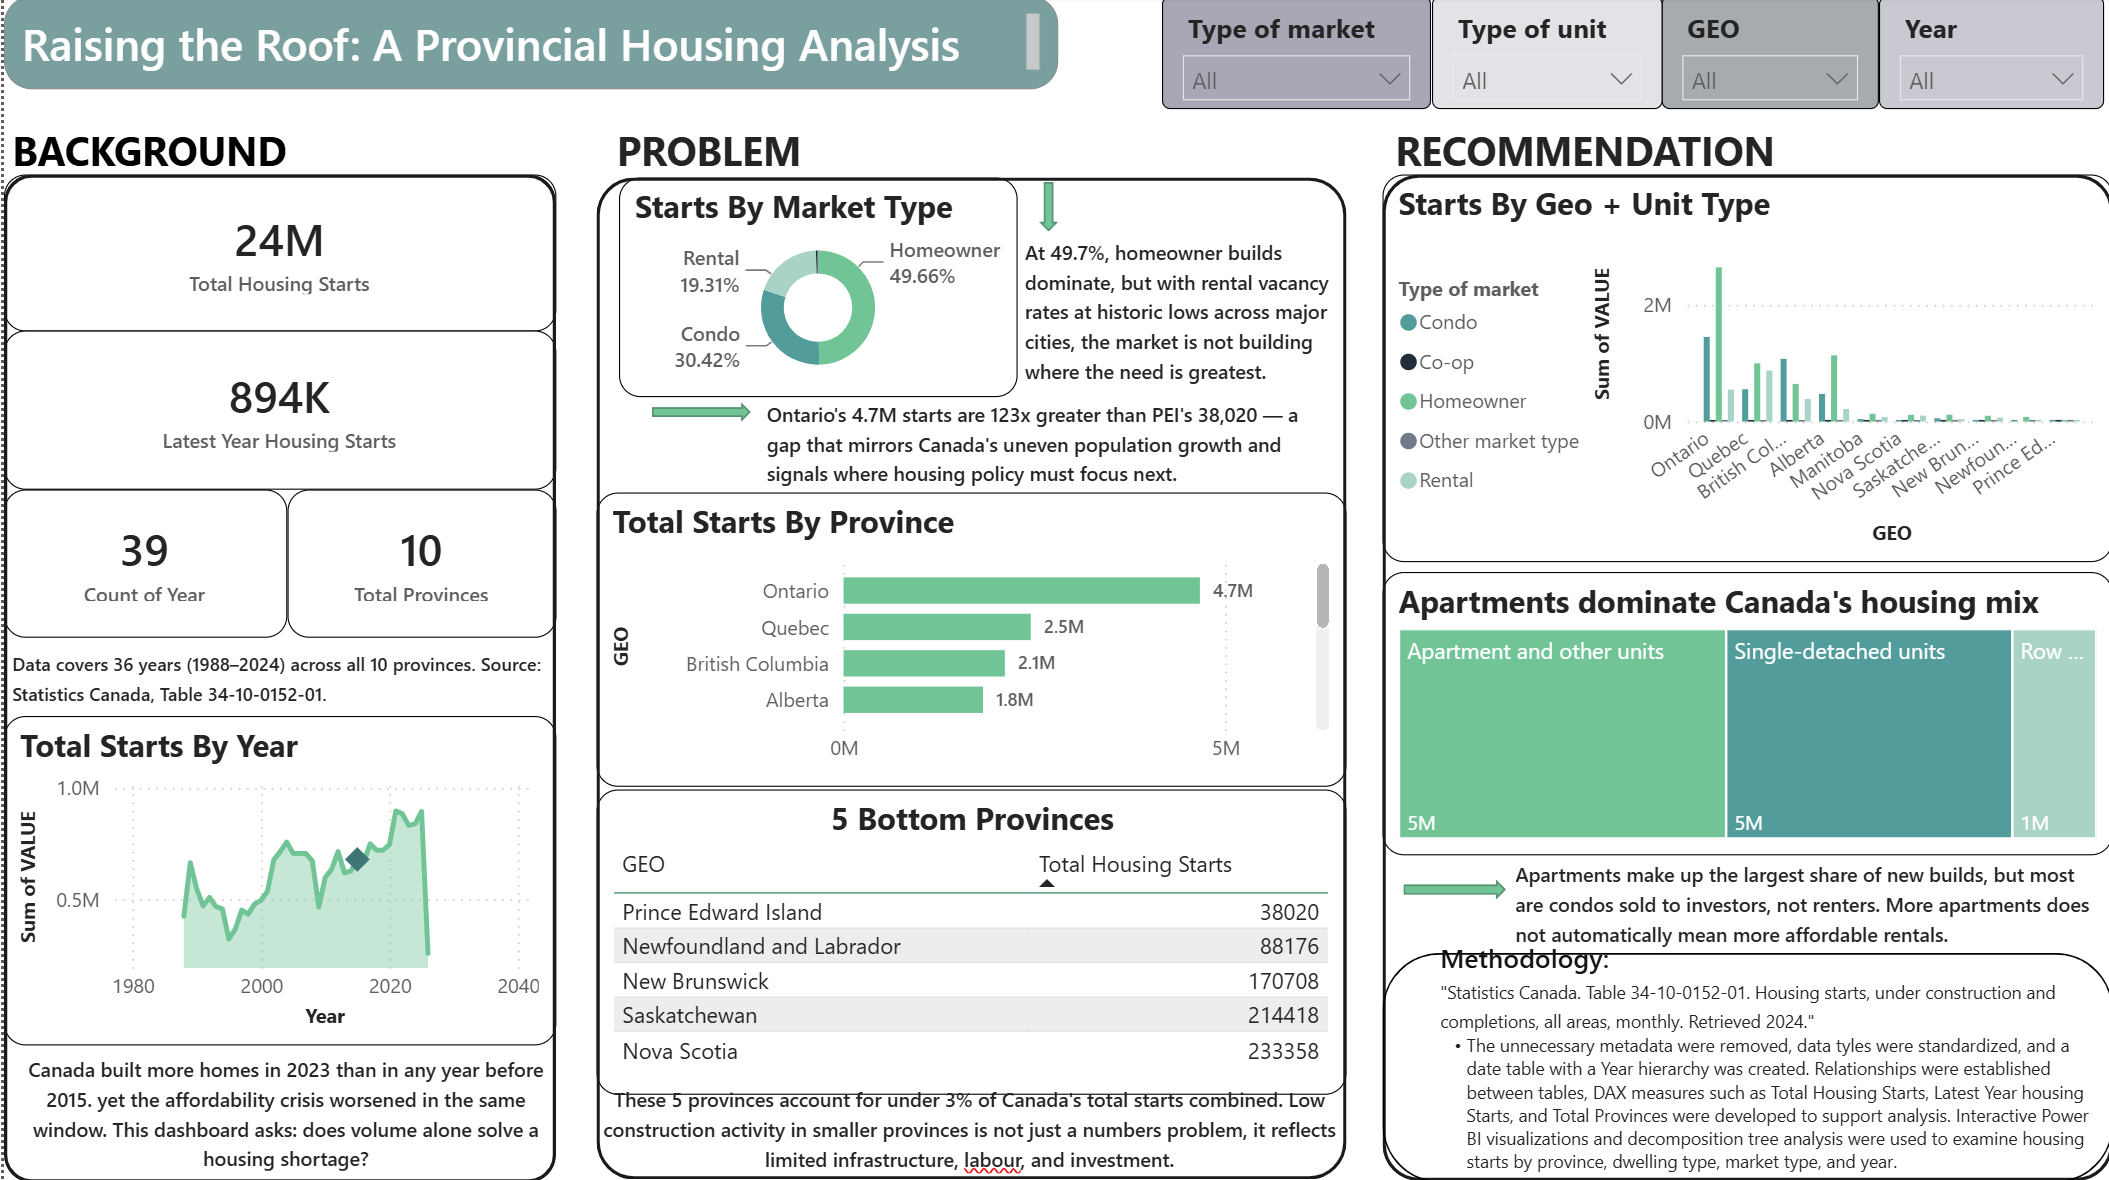

The page's visual inventory and layout, read from the dashboard file:
{"tool":"powerbi","page":{"name":"Page 1","canvas":[1280,720],"ordinal":0},"visuals":[{"type":"lineChart","fields":{"Y":["34100152.Total Housing Starts"],"Category":["DateTable.Year"]},"box":[897.5,102.5,382.5,132.5],"z":0},{"type":"clusteredBarChart","title":"Total Starts By Province","fields":{"Y":["34100152.Total Housing Starts"],"Category":["34100152.GEO"]},"box":[360,301.7,455,178.3],"z":1000},{"type":"treemap","title":"Apartments dominate Canada''s housing mix","fields":{"Group":["34100152.Type of unit"],"Values":["Sum(34100152.VALUE)"]},"box":[836.7,350,443.3,171.7],"z":2000},{"type":"textbox","box":[912.2,517.8,367.8,80],"z":3000},{"type":"donutChart","title":"Starts By Market Type","fields":{"Category":["34100152.Type of market"],"Y":["34100152.Total Housing Starts"]},"box":[373.3,110,241.7,133.3],"z":4000},{"type":"slicer","fields":{"Values":["DateTable.Year"]},"box":[1138.3,0,136.7,68.3],"z":5000},{"type":"slicer","fields":{"Values":["34100152.GEO"]},"box":[1006.7,0,131.7,68.3],"z":6000},{"type":"slicer","fields":{"Values":["34100152.Type of unit"]},"box":[866.7,0,140,68.3],"z":7000},{"type":"slicer","fields":{"Values":["34100152.Type of market"]},"box":[703.3,0,163.3,68.3],"z":8000},{"type":"tableEx","title":"5 Bottom Provinces","fields":{"Values":["34100152.GEO","34100152.Total Housing Starts"]},"box":[360,481.7,455,185],"z":9000},{"type":"cardVisual","fields":{"Data":["34100152.Total Provinces"]},"box":[171.7,300,163.3,90],"z":10000},{"type":"cardVisual","fields":{"Data":["34100152.Total Housing Starts"]},"box":[0,108.3,335,95],"z":11000},{"type":"cardVisual","fields":{"Data":["34100152.Latest Year Housing Starts"]},"box":[0,203.3,335,96.7],"z":12000},{"type":"cardVisual","title":"rr","fields":{"Data":["Count(DateTable.Year)"]},"box":[0,300,171.7,90],"z":13000},{"type":"lineChart","title":"Total Starts By Year","fields":{"Category":["DateTable.Year"],"Y":["Sum(34100152.VALUE)"]},"box":[0,436.7,335,200],"z":14000},{"type":"clusteredColumnChart","title":"Starts By Geo + Unit Type","fields":{"Series":["34100152.Type of market"],"Y":["Sum(34100152.VALUE)"],"Category":["34100152.GEO"]},"box":[836.7,108.3,443.3,235],"z":15000},{"type":"textbox","box":[0,0,640,56.7],"z":16000},{"type":"shape","box":[0,103.3,335,616.7],"z":17000},{"type":"shape","box":[360,103.3,455,615],"z":18000},{"type":"shape","box":[836.7,103.3,443.3,615.6],"z":19000},{"type":"textbox","box":[3.3,636.7,335,81.7],"z":20000},{"type":"textbox","box":[615,140,200,126.7],"z":21000},{"type":"textbox","box":[458.3,238.3,351.7,80],"z":22000},{"type":"shape","box":[393.3,246.7,60,11.7],"z":23000},{"type":"shape","box":[628.3,113.3,11.7,30],"z":24000},{"type":"shape","box":[850,536.7,62.2,12.2],"z":25000},{"type":"textbox","box":[356.7,655,458.3,65],"z":26000},{"type":"shape","box":[850,574.4,415.6,142.2],"z":27000},{"type":"textbox","box":[866.7,567.8,405.6,152.2],"z":28000},{"type":"textbox","box":[0,71.7,191.7,91.7],"z":29000},{"type":"textbox","box":[366.7,71.7,191.7,91.7],"z":30000},{"type":"textbox","box":[840,71.7,298.3,91.7],"z":31000},{"type":"textbox","box":[0,390,335,46.7],"z":32000}]}

Visuals, with their boxes in screenshot pixels (x1, y1, x2, y2), scaled from the page's 1280x720 canvas onto the 2109x1180 screenshot:
lineChart - 34100152.Total Housing Starts x DateTable.Year: box=[1479, 168, 2108, 385]
"Total Starts By Province" clusteredBarChart: box=[593, 494, 1343, 787]
"Apartments dominate Canada''s housing mix" treemap: box=[1379, 574, 2108, 855]
textbox: box=[1503, 849, 2108, 980]
"Starts By Market Type" donutChart: box=[615, 180, 1013, 399]
slicer - DateTable.Year: box=[1876, 0, 2101, 112]
slicer - 34100152.GEO: box=[1659, 0, 1876, 112]
slicer - 34100152.Type of unit: box=[1428, 0, 1659, 112]
slicer - 34100152.Type of market: box=[1159, 0, 1428, 112]
"5 Bottom Provinces" tableEx: box=[593, 789, 1343, 1093]
cardVisual - 34100152.Total Provinces: box=[283, 492, 552, 639]
cardVisual - 34100152.Total Housing Starts: box=[0, 177, 552, 333]
cardVisual - 34100152.Latest Year Housing Starts: box=[0, 333, 552, 492]
"rr" cardVisual: box=[0, 492, 283, 639]
"Total Starts By Year" lineChart: box=[0, 716, 552, 1043]
"Starts By Geo + Unit Type" clusteredColumnChart: box=[1379, 177, 2108, 563]
textbox: box=[0, 0, 1054, 93]
shape: box=[0, 169, 552, 1179]
shape: box=[593, 169, 1343, 1177]
shape: box=[1379, 169, 2108, 1178]
textbox: box=[5, 1043, 557, 1177]
textbox: box=[1013, 229, 1343, 437]
textbox: box=[755, 391, 1335, 522]
shape: box=[648, 404, 747, 423]
shape: box=[1035, 186, 1054, 235]
shape: box=[1401, 880, 1503, 900]
textbox: box=[588, 1073, 1343, 1179]
shape: box=[1401, 941, 2085, 1174]
textbox: box=[1428, 931, 2096, 1179]
textbox: box=[0, 118, 316, 268]
textbox: box=[604, 118, 920, 268]
textbox: box=[1384, 118, 1876, 268]
textbox: box=[0, 639, 552, 716]
